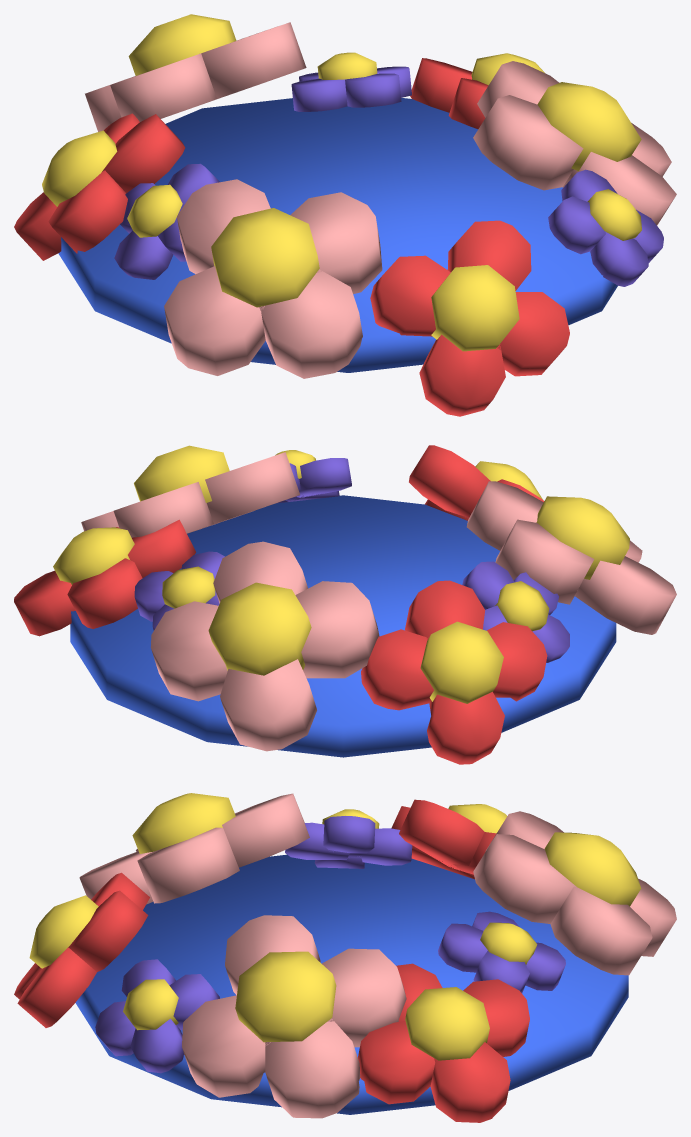
File: FlowerCrown.fbx
3 renders of one model, top to bottom at view 1: azimuth 30°, elevation 25°; view 2: azimuth 150°, elevation 25°; view 3: azimuth 270°, elevation 25°, orthographic. The views are drawn at different scales.
Visible parts, largest first — view 1: FlowerCrown; view 2: FlowerCrown; view 3: FlowerCrown.
Part boxes in pixels (left/top/right/bottom): FlowerCrown: left=14, top=14, right=676, bottom=416; FlowerCrown: left=14, top=445, right=676, bottom=764; FlowerCrown: left=14, top=793, right=676, bottom=1122.
Size of the model in its own units: 154 by 52.92 by 166.
